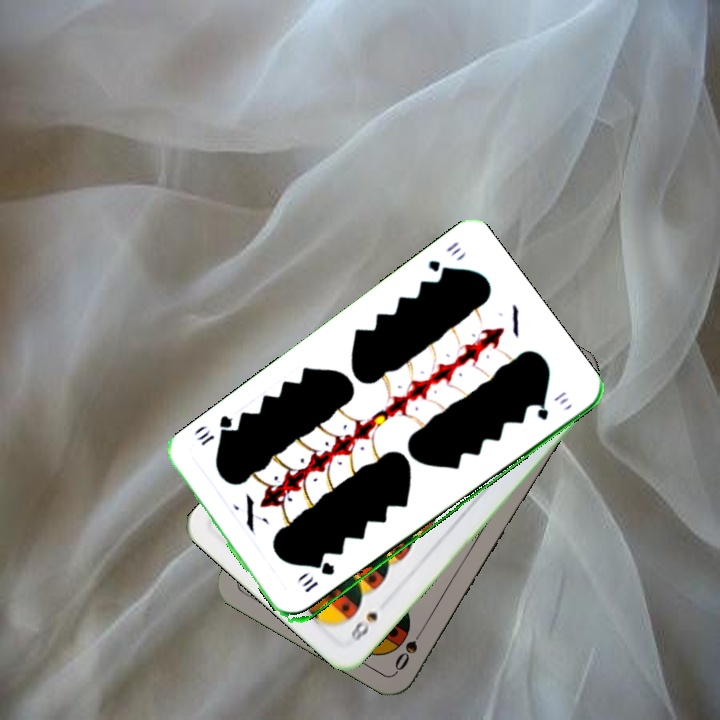G10: (424, 237, 463, 279), (300, 560, 338, 595)
S8: (347, 608, 381, 647)
SO: (390, 620, 429, 674)
